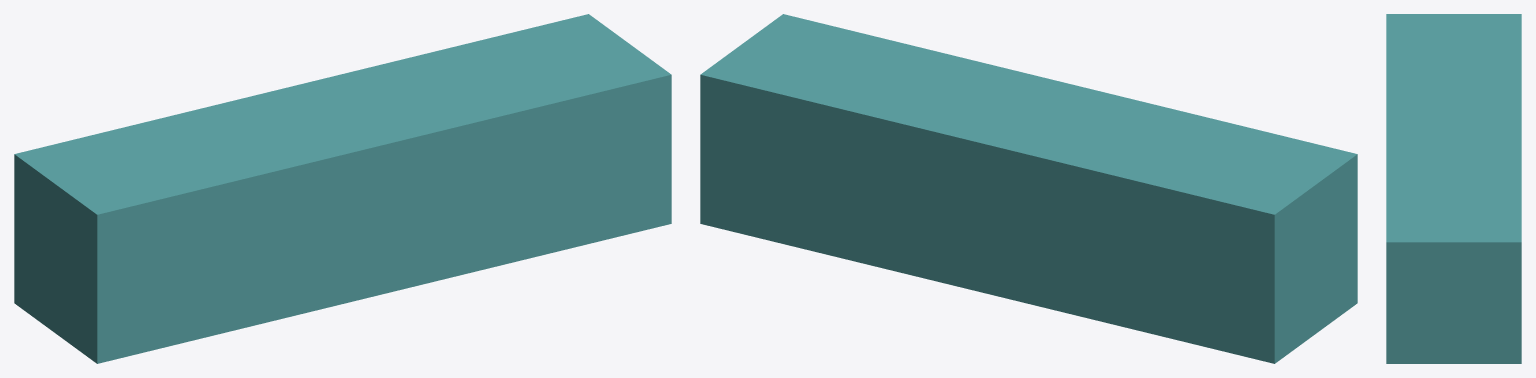
The model's file is Bridge_Triangle_04.fbx.
The picture shows the model from 3 angles, left to right: view 1: azimuth 30°, elevation 25°; view 2: azimuth 150°, elevation 25°; view 3: azimuth 270°, elevation 25°; orthographic projection. The views are drawn at different scales.
Parts seen in each view (by area): view 1: Bridge_Triangle_04; view 2: Bridge_Triangle_04; view 3: Bridge_Triangle_04.
Boxes of the visible parts, bbox=[...] form: Bridge_Triangle_04: bbox=[14, 14, 671, 363]; Bridge_Triangle_04: bbox=[700, 14, 1357, 363]; Bridge_Triangle_04: bbox=[1386, 14, 1521, 363].
Size of the model in its own units: 4 by 0.9925 by 1.
